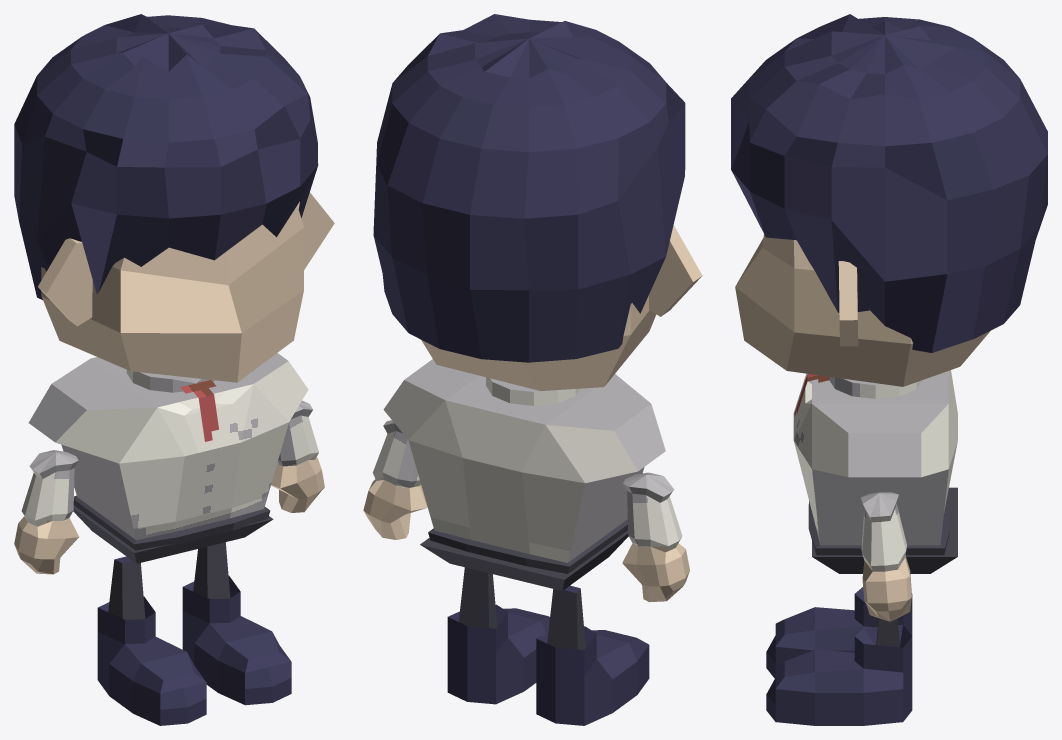
The model's file is Enty.gltf.
The picture shows the model from 3 angles, left to right: view 1: azimuth 30°, elevation 25°; view 2: azimuth 150°, elevation 25°; view 3: azimuth 270°, elevation 25°; orthographic projection. The views are drawn at different scales.
Parts seen in each view (by area): view 1: Cabeca, Corpo, Pe4, Pe3, Braco4, Braco3; view 2: Cabeca, Corpo, Pe4, Pe3, Braco4, Braco3; view 3: Cabeca, Corpo, Pe3, Braco3, Pe4.
Part boxes in pixels (box(x1,y1,x2,y2)): Cabeca: box(14, 14, 334, 382); Corpo: box(28, 353, 308, 563); Pe4: box(97, 556, 206, 725); Pe3: box(182, 542, 291, 705); Braco4: box(14, 450, 78, 574); Braco3: box(271, 400, 324, 512); Cabeca: box(373, 14, 702, 390); Corpo: box(383, 359, 665, 590); Pe4: box(536, 585, 649, 725); Pe3: box(447, 567, 549, 704); Braco4: box(622, 472, 689, 602); Braco3: box(363, 420, 427, 539); Cabeca: box(731, 14, 1047, 386); Corpo: box(793, 370, 957, 573); Pe3: box(766, 618, 912, 725); Braco3: box(861, 492, 911, 621); Pe4: box(766, 587, 912, 678).
Size of the model in its own units: 2.46 by 4.94 by 2.17.
Materials: 5 (5 with a texture image).
